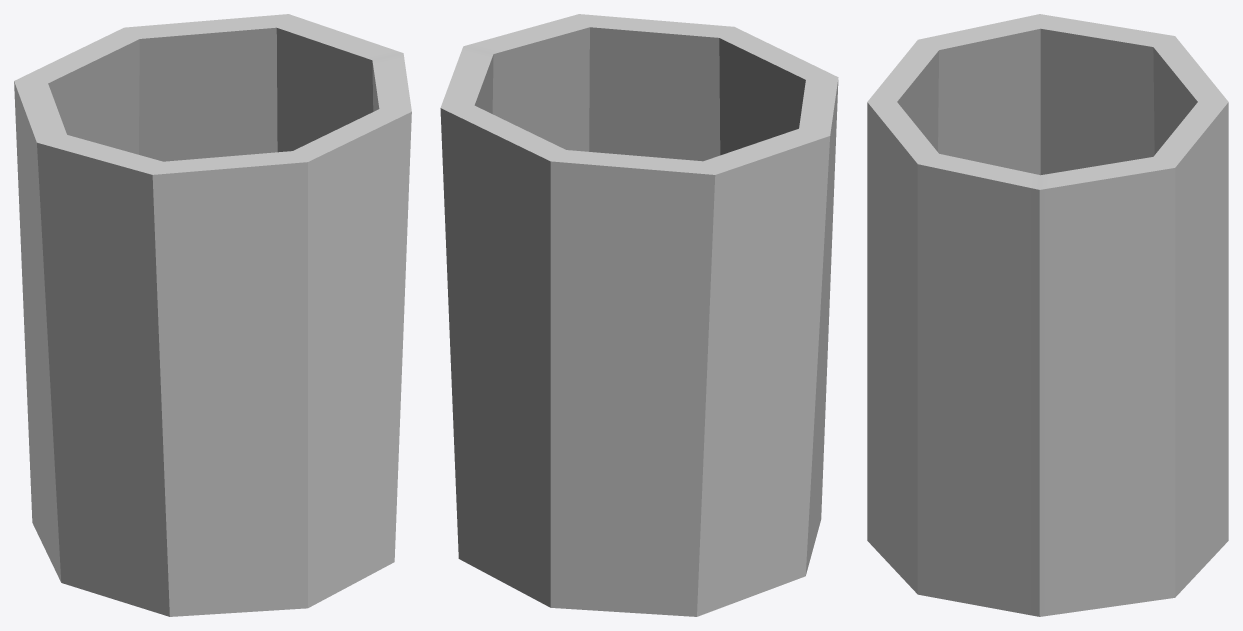
Rendered from M_TrashCan.fbx.
3 views of the same model, side by side, from view 1: azimuth 30°, elevation 25°; view 2: azimuth 150°, elevation 25°; view 3: azimuth 270°, elevation 25° (orthographic).
Parts seen in each view (by area): view 1: Cylinder.001; view 2: Cylinder.001; view 3: Cylinder.001.
Part boxes in pixels (x1=…): Cylinder.001: x1=14, y1=14, x2=411, y2=616; Cylinder.001: x1=440, y1=14, x2=838, y2=616; Cylinder.001: x1=867, y1=14, x2=1228, y2=616.
Bounding box in the file's own units: 400 × 465 × 347.
